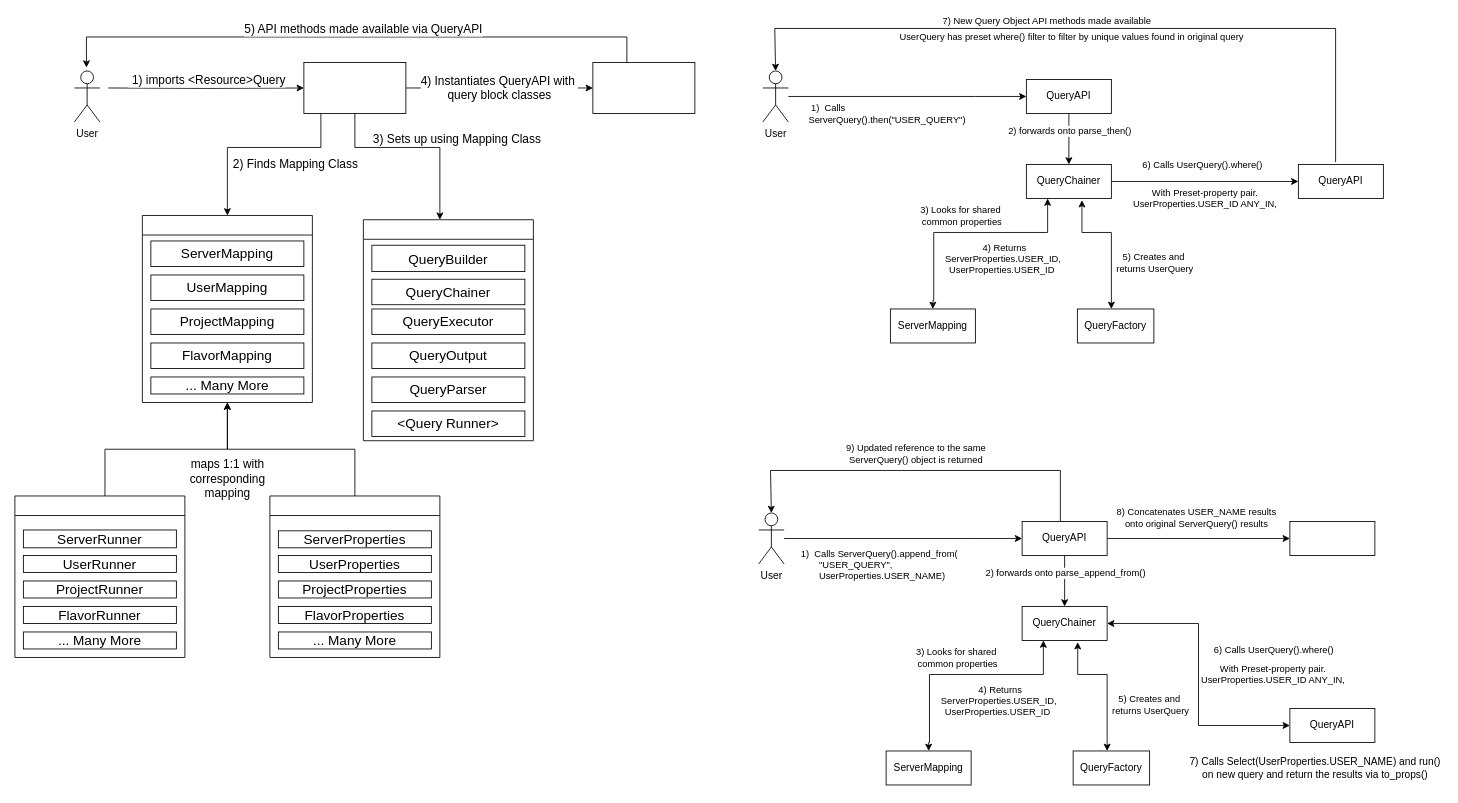
Some shapes in this 1458 by 803 pixel diagram are drawn without their labels. Here are the shapes that lost their labels. From the top down, the box of each, then its label:
(303, 62, 406, 113): query_factory
(592, 62, 695, 113): query_api
(142, 215, 312, 402): mappings
(363, 219, 533, 441): query_blocks
(1289, 521, 1375, 555): ResultsContainer
(14, 495, 185, 657): runners
(269, 495, 440, 657): enums/props
